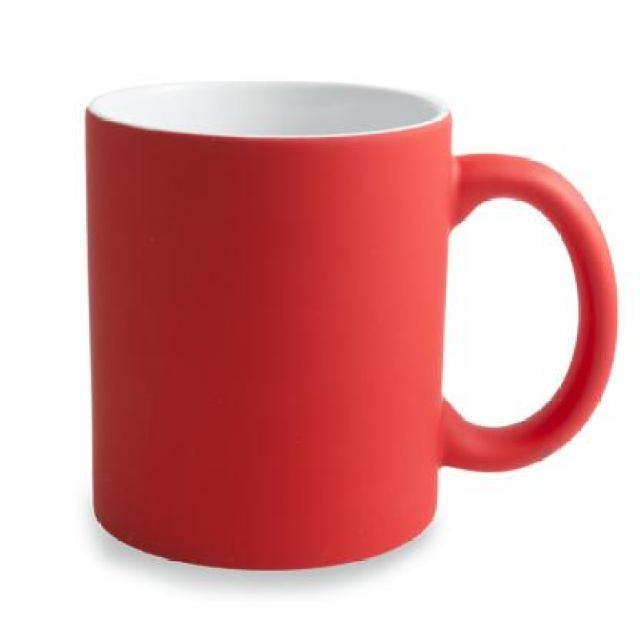cup: (80, 71, 627, 582)
